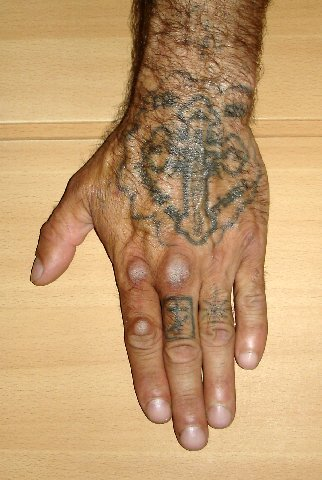tatu9_krest: (166, 93, 240, 248), (161, 297, 194, 334)
